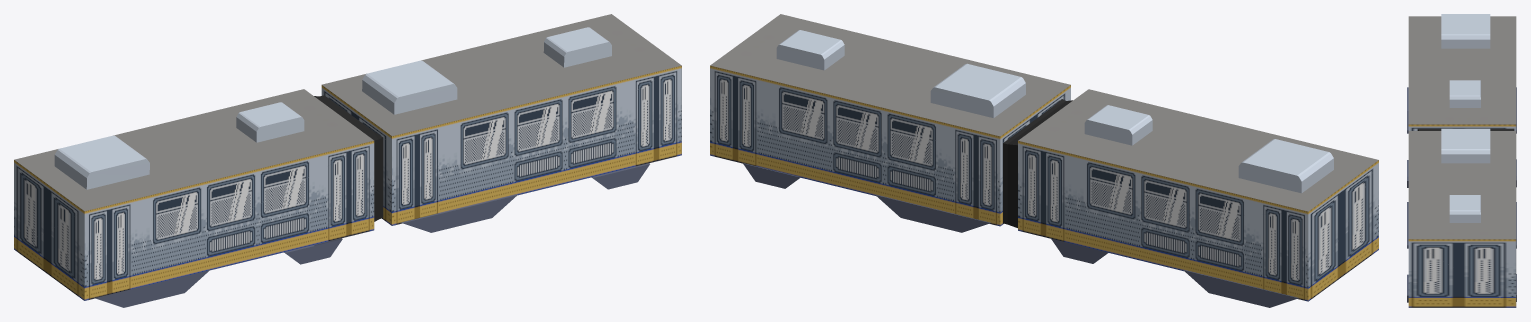
Rendered from Tren part new new new body.fbx.
The picture shows the model from 3 angles, left to right: view 1: azimuth 30°, elevation 25°; view 2: azimuth 150°, elevation 25°; view 3: azimuth 270°, elevation 25°; orthographic projection. The views are drawn at different scales.
Visible parts, largest first — view 1: Antenna.002; view 2: Antenna.002; view 3: Antenna.002.
Boxes of the visible parts, bbox=[...] form: Antenna.002: bbox=[14, 14, 681, 307]; Antenna.002: bbox=[710, 14, 1378, 307]; Antenna.002: bbox=[1407, 14, 1516, 307].
Bounding box in the file's own units: 2505 × 488 × 522.
4 materials, 1 textured.
